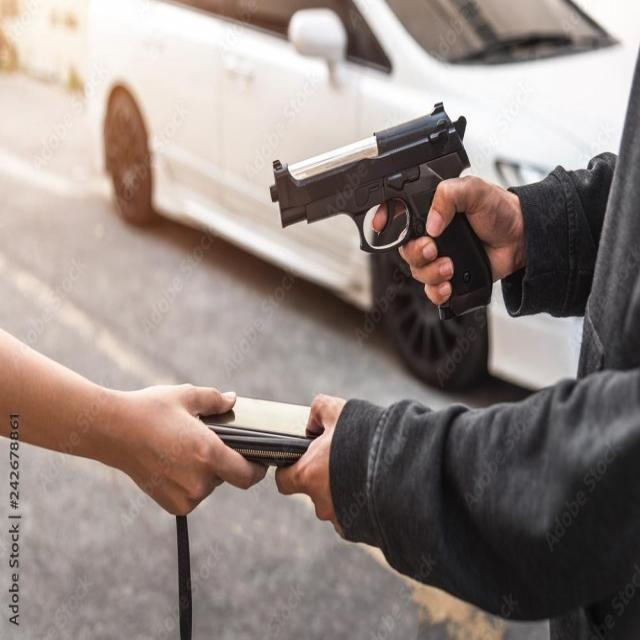gun: (269, 109, 491, 320)
